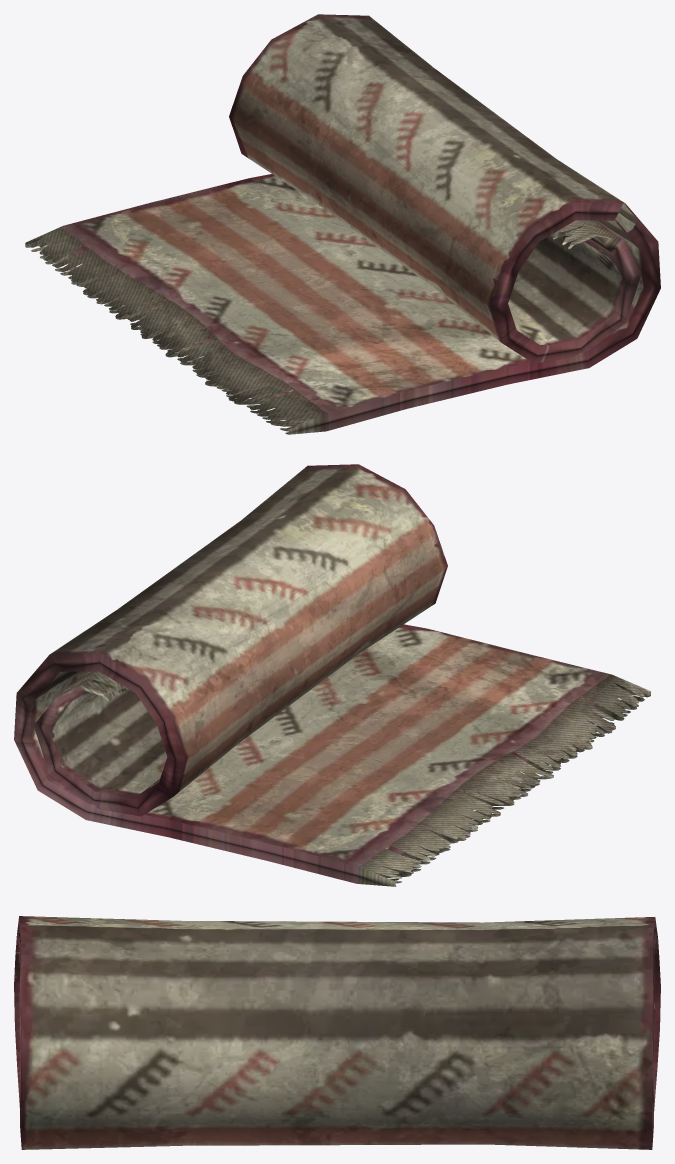
The picture shows the model from 3 angles, top to bottom: view 1: azimuth 30°, elevation 25°; view 2: azimuth 150°, elevation 25°; view 3: azimuth 270°, elevation 25°; orthographic projection. The views are drawn at different scales.
Visible parts, largest first — view 1: SM_Moon_Garou_Decoration_Carpet_02v2_LOD0; view 2: SM_Moon_Garou_Decoration_Carpet_02v2_LOD0; view 3: SM_Moon_Garou_Decoration_Carpet_02v2_LOD0.
Boxes of the visible parts, <box> form: SM_Moon_Garou_Decoration_Carpet_02v2_LOD0: <box>25,14,660,434</box>; SM_Moon_Garou_Decoration_Carpet_02v2_LOD0: <box>14,464,650,886</box>; SM_Moon_Garou_Decoration_Carpet_02v2_LOD0: <box>14,916,660,1149</box>.
Size of the model in its own units: 0.884 by 0.3662 by 1.03.
Materials: 1 (1 with a texture image).
